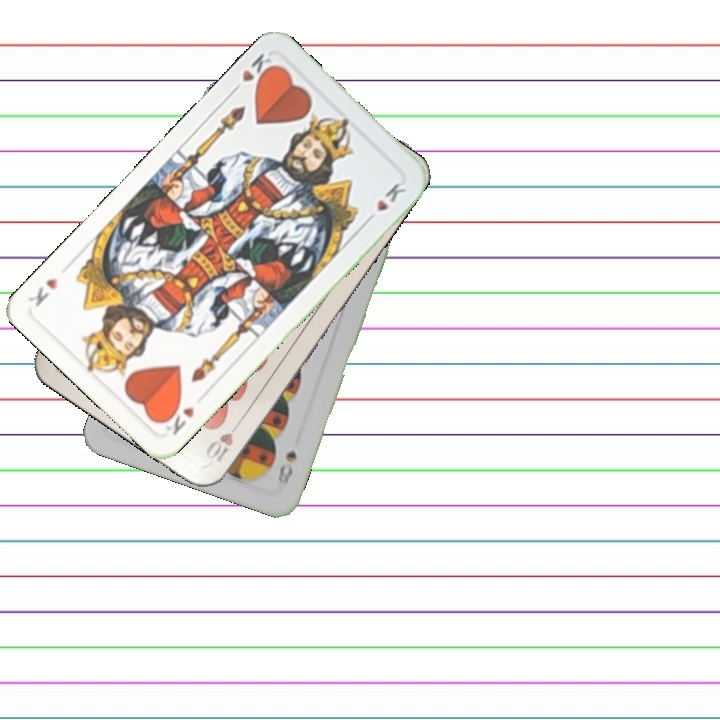H10: (201, 415, 245, 465)
HK: (226, 49, 279, 97), (157, 398, 197, 438)
S8: (273, 447, 299, 488)
